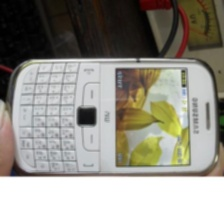phone: (2, 55, 221, 180)
